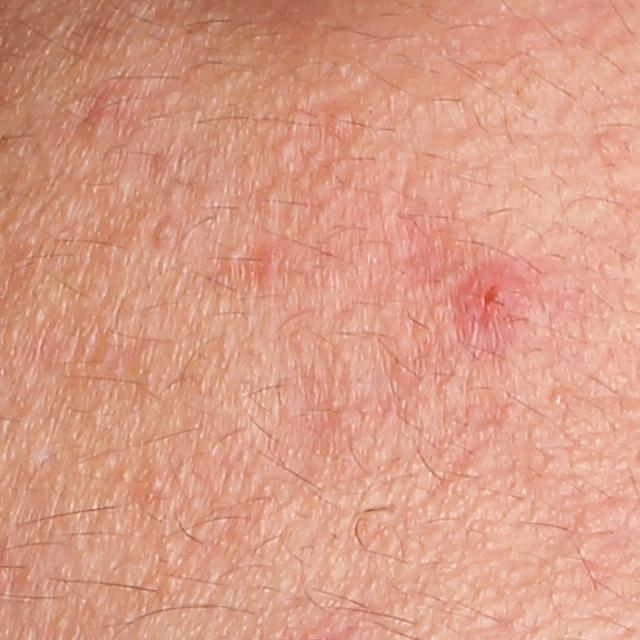comedo: (256, 181, 290, 216), (596, 133, 630, 164), (150, 215, 180, 250), (270, 132, 301, 165)
papule: (453, 264, 531, 336), (82, 101, 117, 137)
